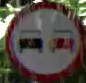No overtake: (6, 0, 84, 82)
